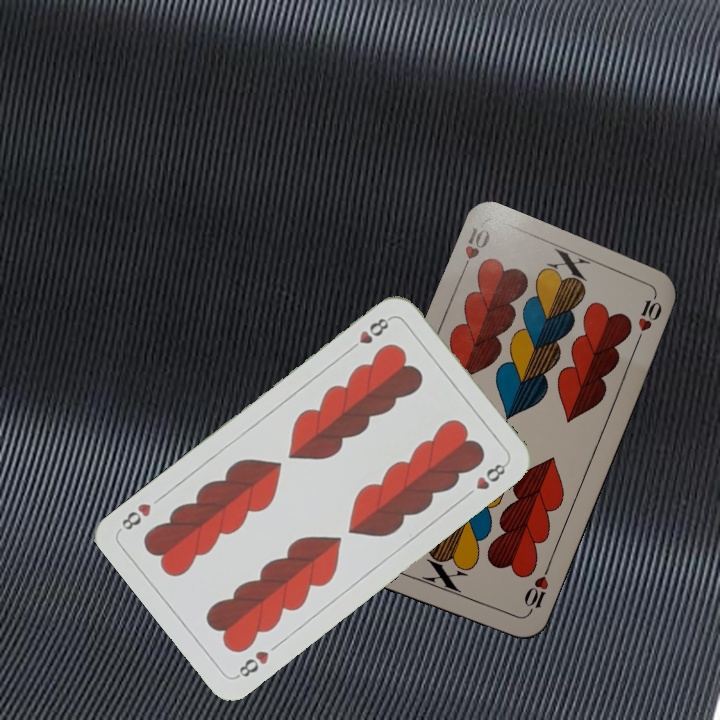H10: (455, 223, 493, 279), (519, 562, 552, 619)
H8: (344, 313, 394, 355), (232, 646, 272, 681)
